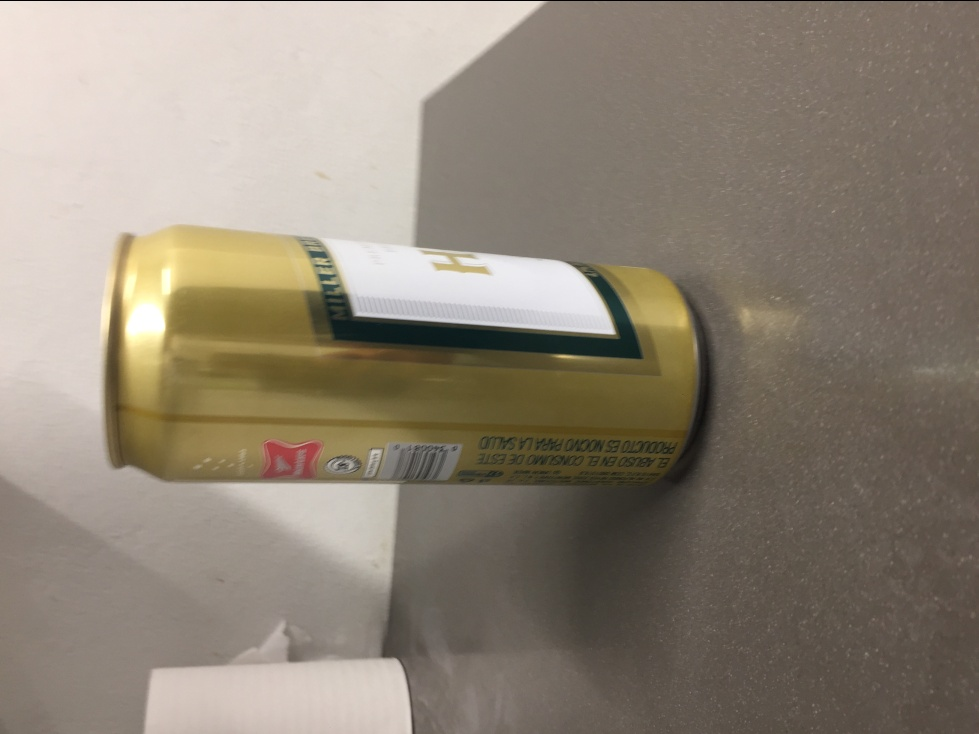miller: (98, 219, 708, 490)
